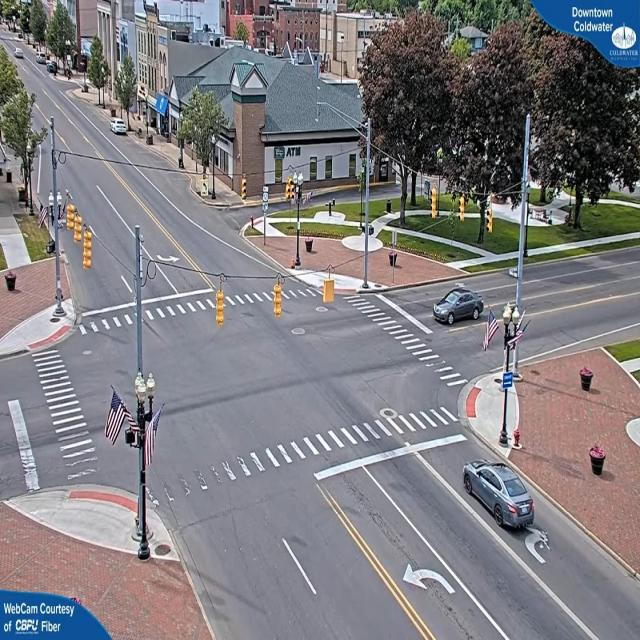car: (462, 461, 533, 532), (434, 286, 485, 325), (111, 120, 129, 136), (16, 52, 26, 62)
